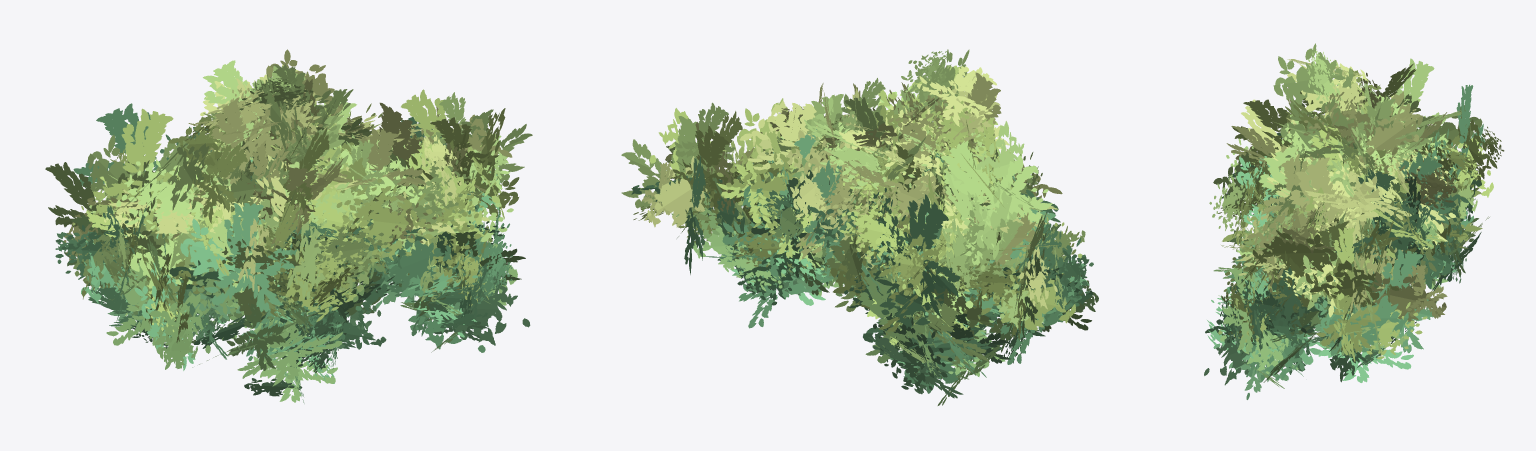
Rendered from Bush_01_Round_Lime.glb.
The picture shows the model from 3 angles, left to right: view 1: azimuth 30°, elevation 25°; view 2: azimuth 150°, elevation 25°; view 3: azimuth 270°, elevation 25°; orthographic projection. The views are drawn at different scales.
Visible parts, largest first — view 1: Bush_01_Round_Lime; view 2: Bush_01_Round_Lime; view 3: Bush_01_Round_Lime.
Part boxes in pixels (x1,y1,x2,y2): Bush_01_Round_Lime: (45, 49, 532, 403); Bush_01_Round_Lime: (621, 49, 1098, 405); Bush_01_Round_Lime: (1204, 43, 1504, 399).
Bounding box in the file's own units: 2.68 × 1.82 × 1.7.
6 materials, 6 textured.
